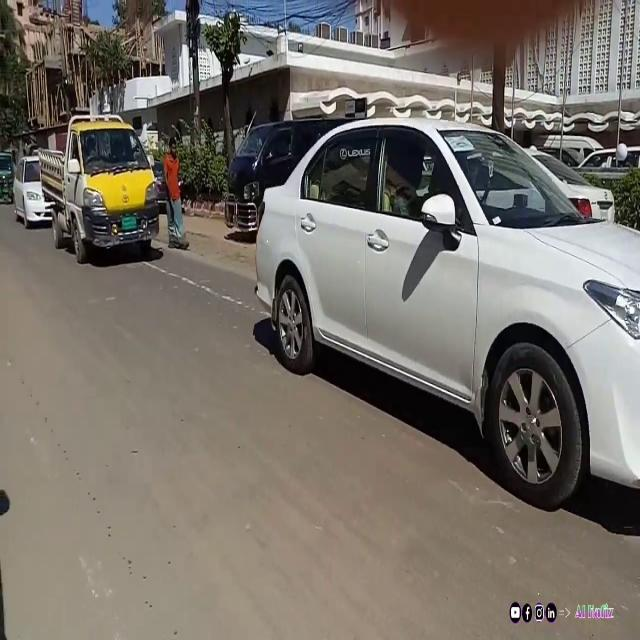black: (230, 110, 360, 227)
white: (259, 120, 640, 498), (13, 153, 64, 234)
